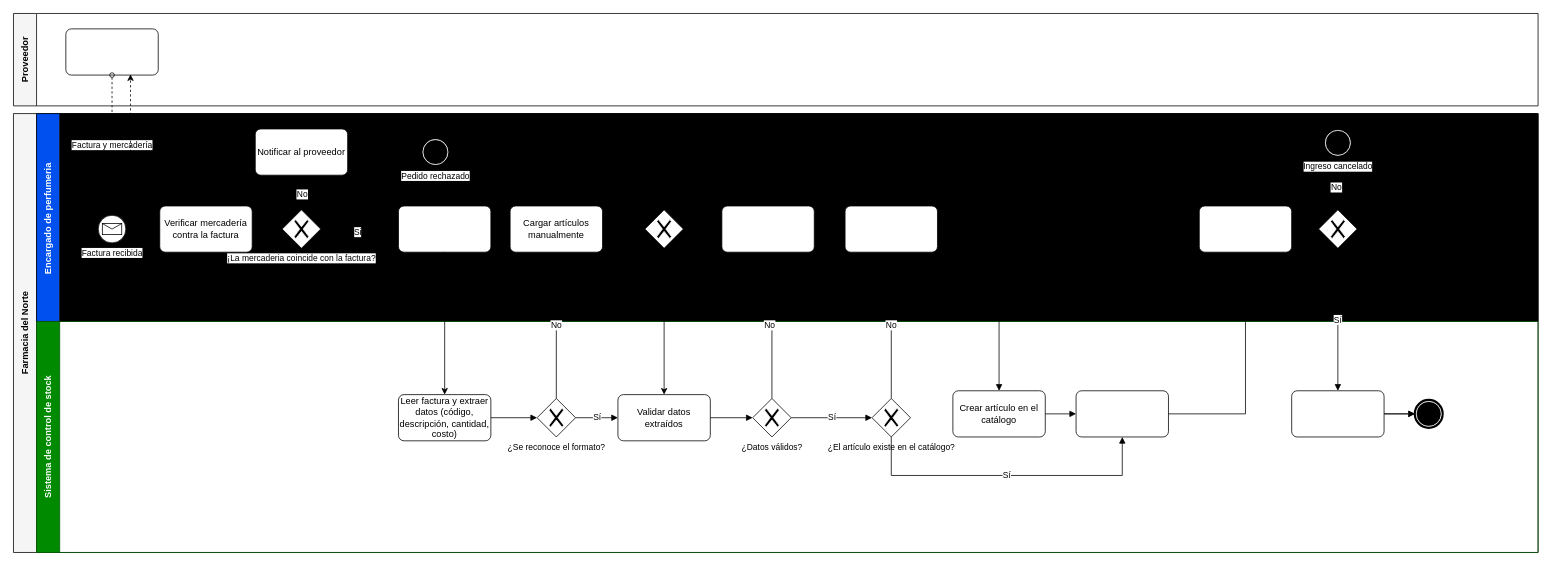
The diagram is 1552 pixels wide and 566 high, and some of its shapes have lost their labels. Here are the shapes that lost their labels. From the top down, the centre of each, then its label:
At pixel 111 51: "Enviar mercadería y factura".
At pixel 444 228: "Cargar archivo de la factura en el sistema".
At pixel 767 228: "Corregir datos señalados por el sistema".
At pixel 890 228: "Completar ficha del artículo nuevo".
At pixel 1245 228: "Revisar resumen de ingreso".
At pixel 1337 228: "¿Confirma el ingreso?".
At pixel 1121 413: "Actualizar stock (sumar cantidad)".
At pixel 1337 413: "Registrar movimiento de ingreso (fecha, proveedor, cantidades)".
At pixel 1428 413: "Stock actualizado".
